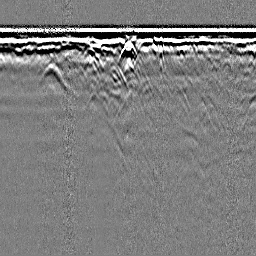cavity: (119, 39, 137, 61)
